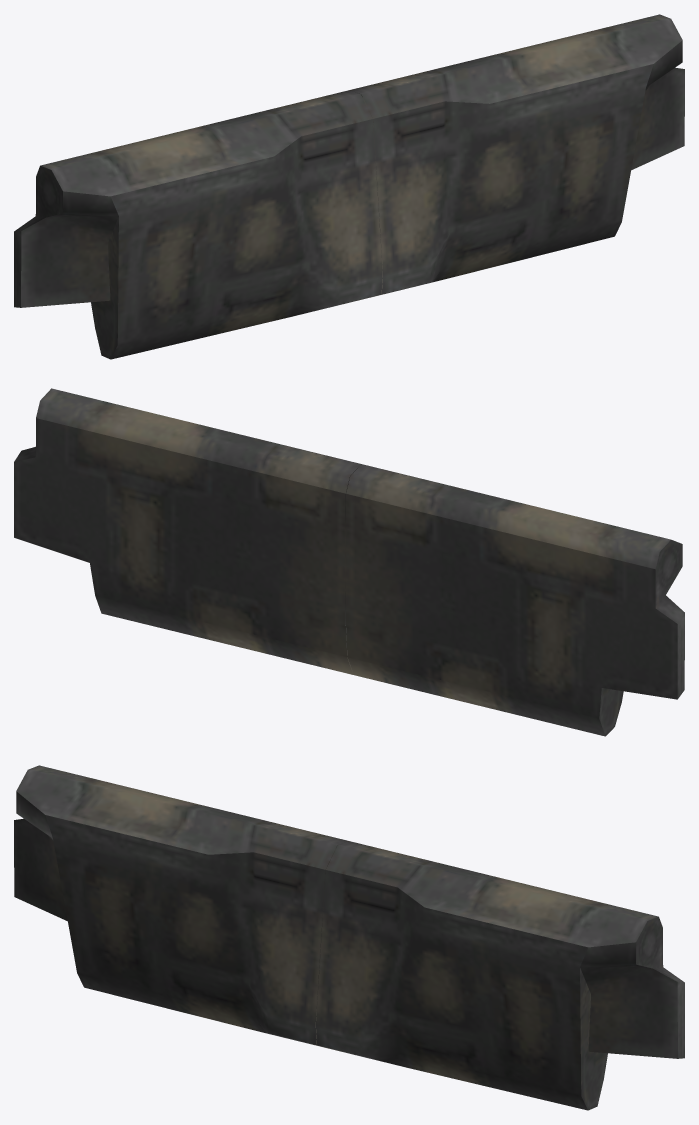
3 renders of one model, top to bottom at view 1: azimuth 30°, elevation 25°; view 2: azimuth 150°, elevation 25°; view 3: azimuth 330°, elevation 25°, orthographic.
Visible parts, largest first — view 1: set_0_group_0; view 2: set_0_group_0; view 3: set_0_group_0.
Part boxes in pixels (bbox=[...]): set_0_group_0: bbox=[14, 14, 684, 359]; set_0_group_0: bbox=[14, 388, 684, 736]; set_0_group_0: bbox=[14, 765, 684, 1110].
Size of the model in its own units: 0.7086 by 0.2095 by 0.0689.
Materials: 1 (1 with a texture image).
